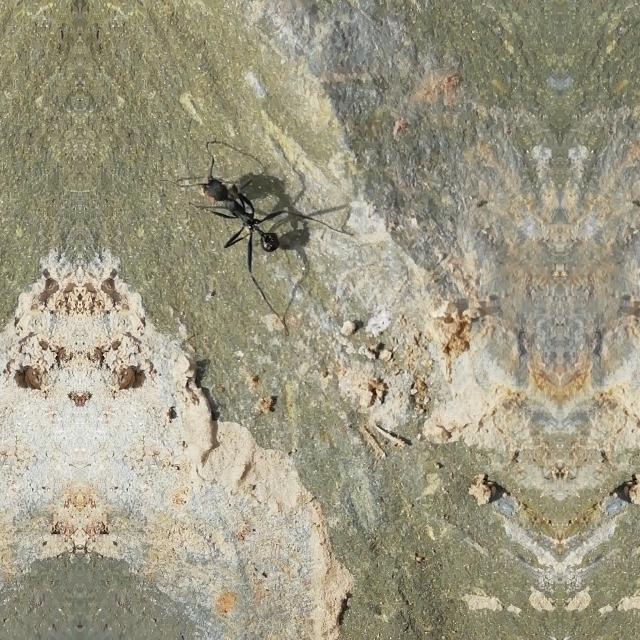Apheanogaster: (186, 148, 296, 274)
